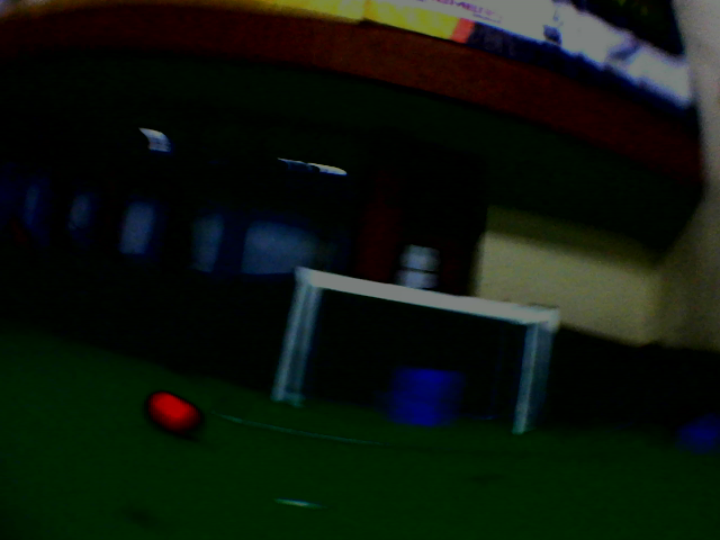bola: (140, 385, 206, 444)
